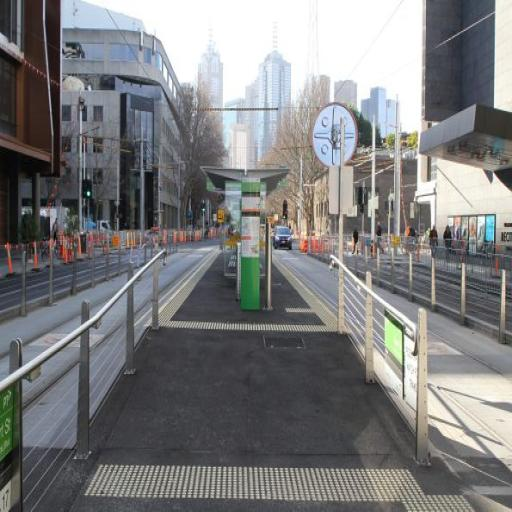Obstruction: (239, 178, 263, 311)
handrail: (0, 259, 159, 511)
ramp: (48, 313, 439, 511)
